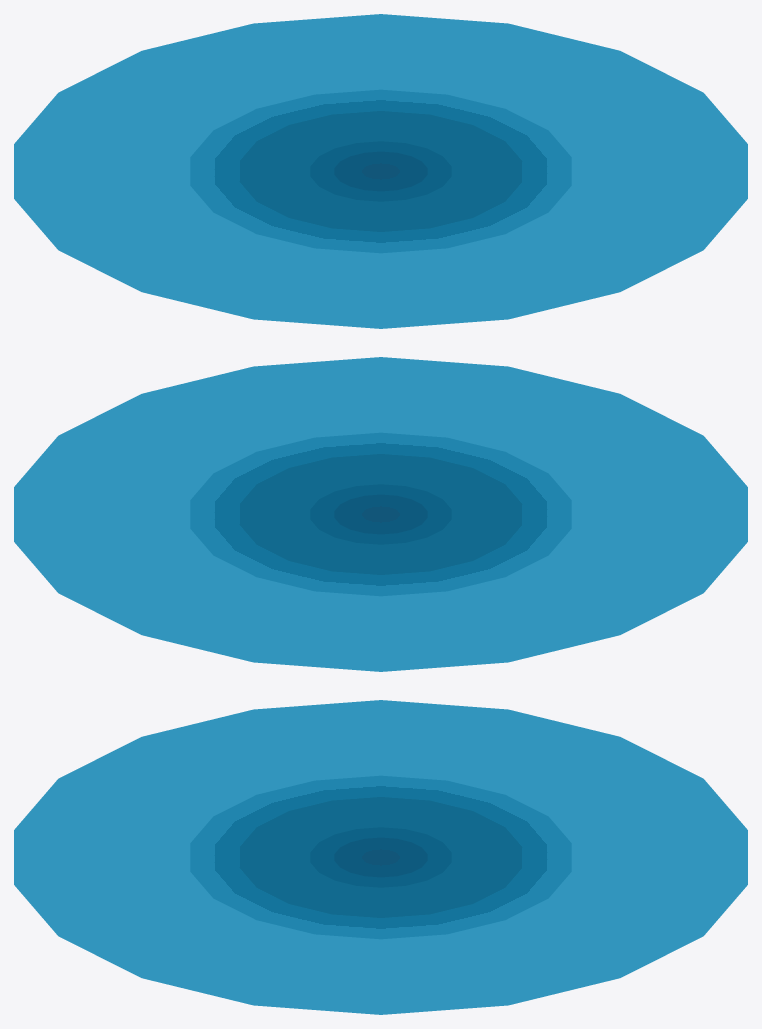
The model's file is kd_stage_136797_0_1.glb.
3 renders of one model, top to bottom at view 1: azimuth 30°, elevation 25°; view 2: azimuth 150°, elevation 25°; view 3: azimuth 270°, elevation 25°, orthographic.
Parts seen in each view (by area): view 1: kd_stage_136797_0_1; view 2: kd_stage_136797_0_1; view 3: kd_stage_136797_0_1.
Boxes of the visible parts, box(x1,y1,x2,y2) form: kd_stage_136797_0_1: box(14, 14, 747, 328); kd_stage_136797_0_1: box(14, 357, 747, 671); kd_stage_136797_0_1: box(14, 700, 747, 1014).
Bounding box in the file's own units: 43319 × 0.000251 × 42661.
1 material, 1 textured.
